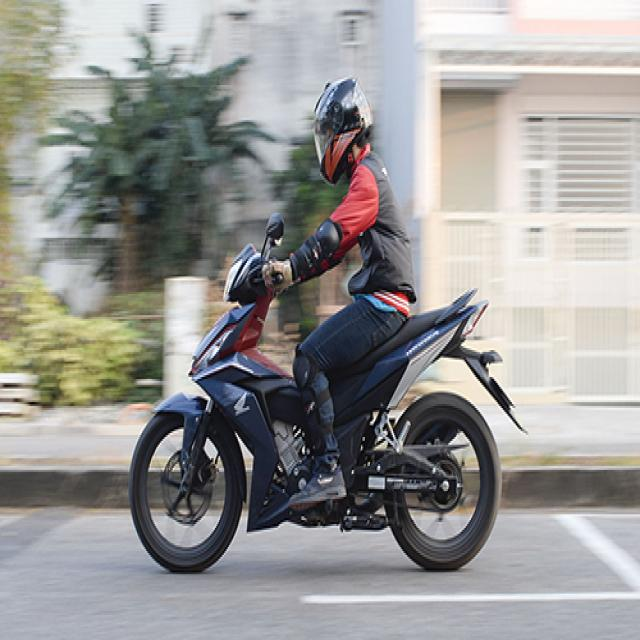Full-face-helmet: (313, 76, 374, 186)
